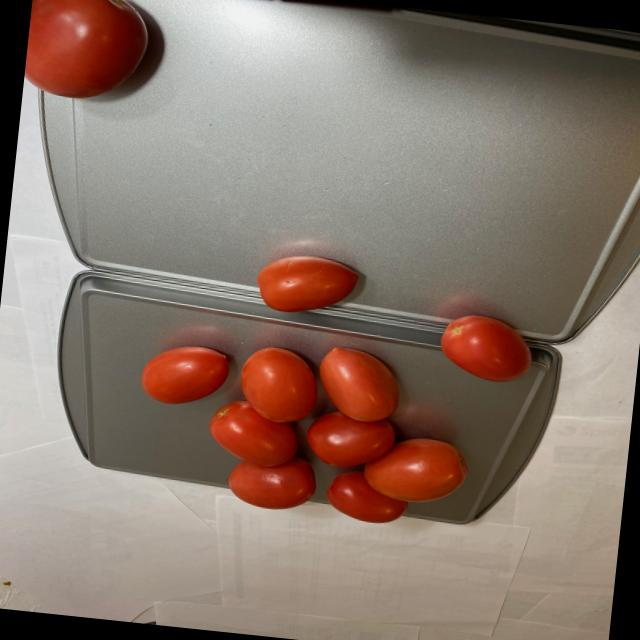tomato: (120, 238, 544, 536), (22, 0, 151, 112)
